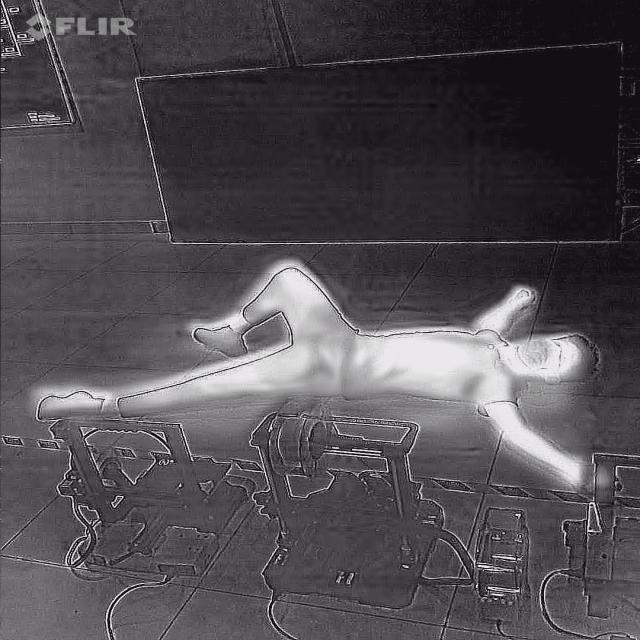Victim: (27, 257, 628, 498)
